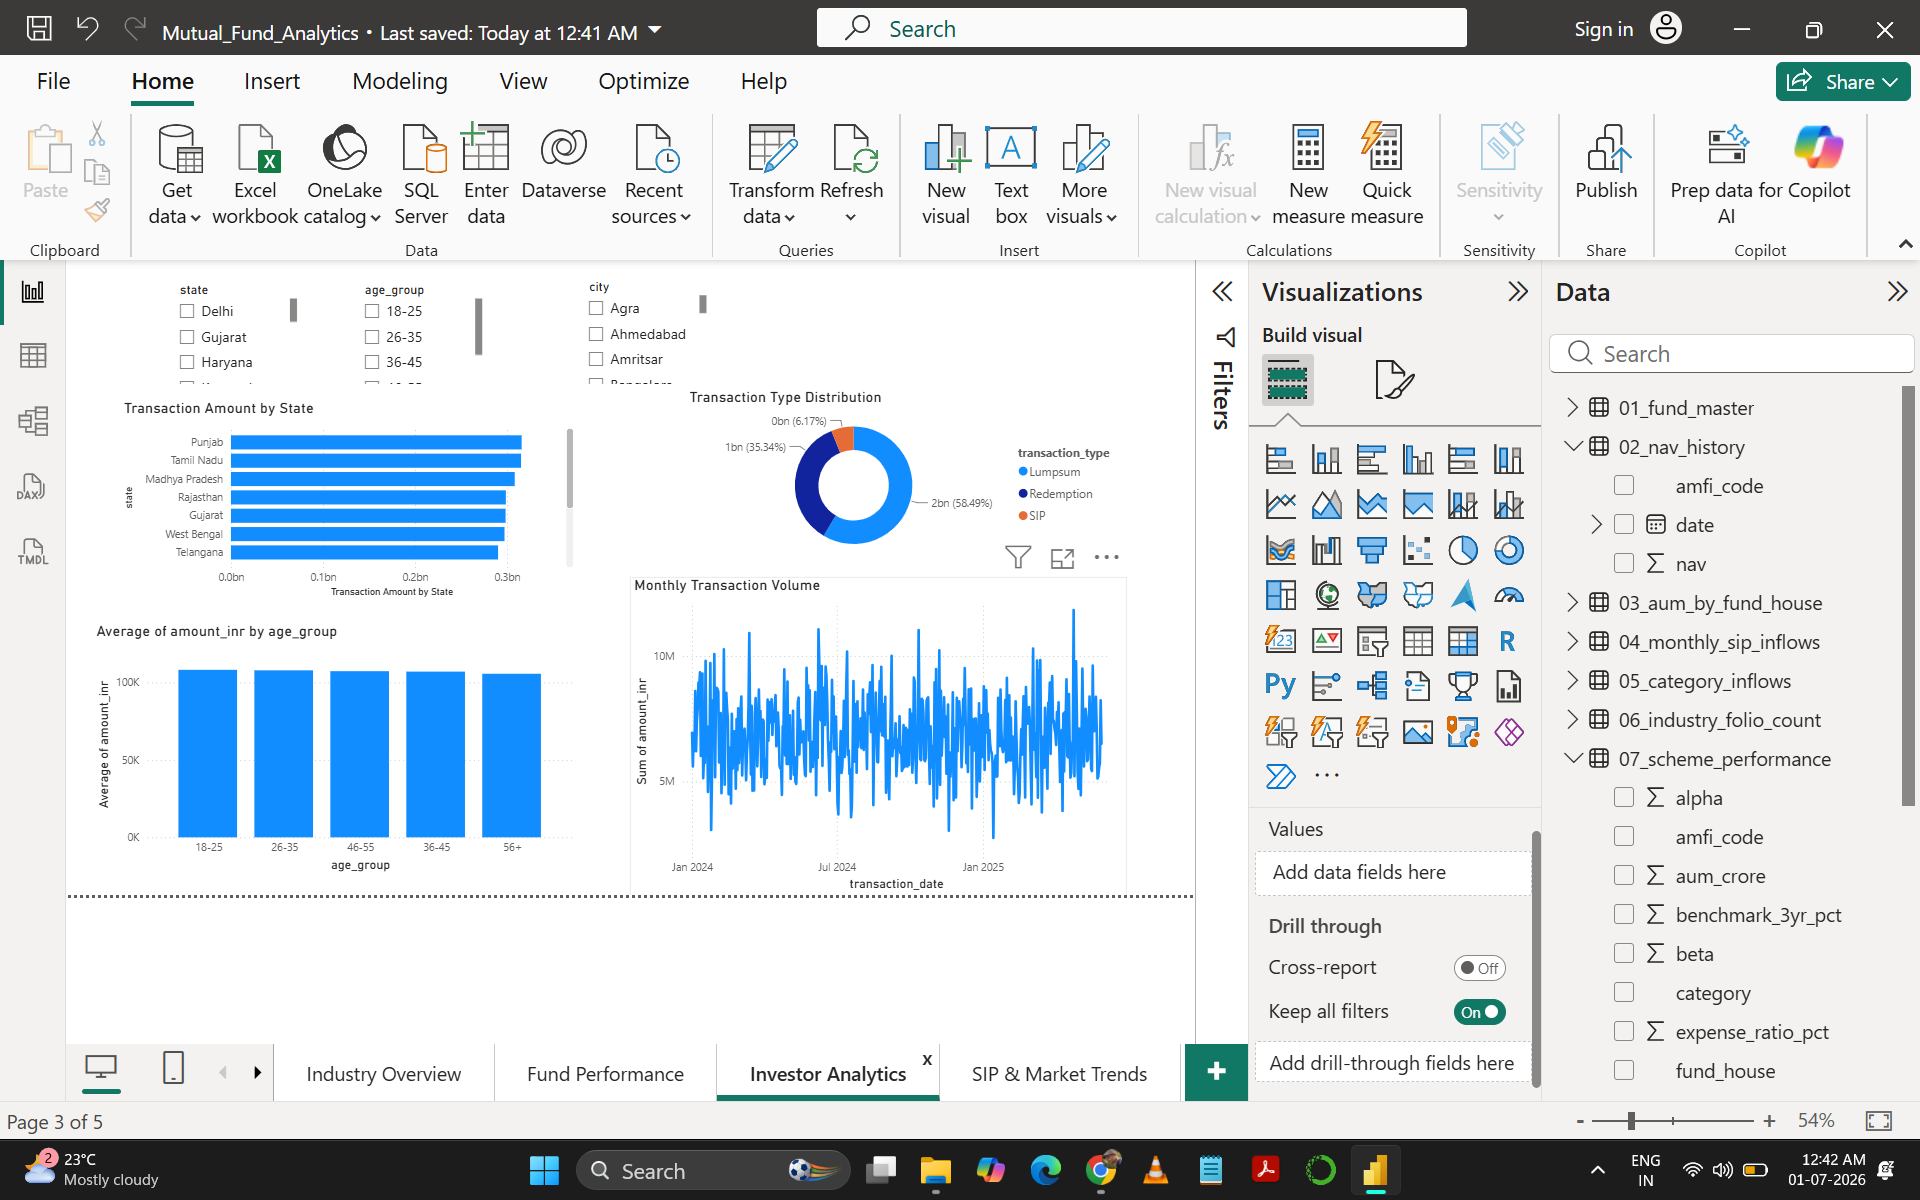

What the dashboard file says about the page in this screenshot:
{"tool":"powerbi","page":{"name":"Investor Analytics","canvas":[1280,720],"ordinal":2},"visuals":[{"type":"clusteredBarChart","title":"Transaction Amount by State","fields":{"Category":["08_investor_transactions.state"],"Y":["Sum(08_investor_transactions.amount_inr)"]},"box":[60.8,158.5,519.6,228.5],"z":0},{"type":"donutChart","title":"Transaction Type Distribution","fields":{"Category":["08_investor_transactions.transaction_type"],"Y":["Sum(08_investor_transactions.amount_inr)"]},"box":[702,145.6,501.2,200.8],"z":1000},{"type":"clusteredColumnChart","fields":{"Category":["08_investor_transactions.age_group"],"Y":["Avg(08_investor_transactions.amount_inr)"]},"box":[29.5,410.9,550.9,287.4],"z":2000},{"type":"lineChart","title":"Monthly Transaction Volume","fields":{"Y":["Sum(08_investor_transactions.amount_inr)"],"Category":["08_investor_transactions.transaction_date"]},"box":[639.4,359.3,563.8,361.1],"z":3000},{"type":"slicer","fields":{"Values":["08_investor_transactions.state"]},"box":[116.1,20.3,151.1,125.3],"z":4000},{"type":"slicer","fields":{"Values":["08_investor_transactions.age_group"]},"box":[326.1,20.3,151.1,125.3],"z":5000},{"type":"slicer","fields":{"Values":["08_investor_transactions.city"]},"box":[580.4,16.6,151.1,129],"z":6000}]}

Visuals, with their boxes on the page's 1280x720 design canvas (x1, y1, x2, y2). These are canvas units, not pixel positions in the 1920x1200 screenshot, which may show the page scaled, cropped or inside an application window:
"Transaction Amount by State" clusteredBarChart: box=[61, 158, 580, 387]
"Transaction Type Distribution" donutChart: box=[702, 146, 1203, 346]
clusteredColumnChart - 08_investor_transactions.age_group x Avg(08_investor_transactions.amount_inr): box=[30, 411, 580, 698]
"Monthly Transaction Volume" lineChart: box=[639, 359, 1203, 720]
slicer - 08_investor_transactions.state: box=[116, 20, 267, 146]
slicer - 08_investor_transactions.age_group: box=[326, 20, 477, 146]
slicer - 08_investor_transactions.city: box=[580, 17, 732, 146]
